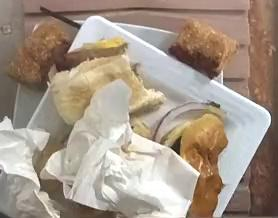bun: (52, 54, 165, 124)
burger: (156, 103, 228, 217)
pizza_crust: (9, 21, 70, 89), (169, 20, 239, 79)
